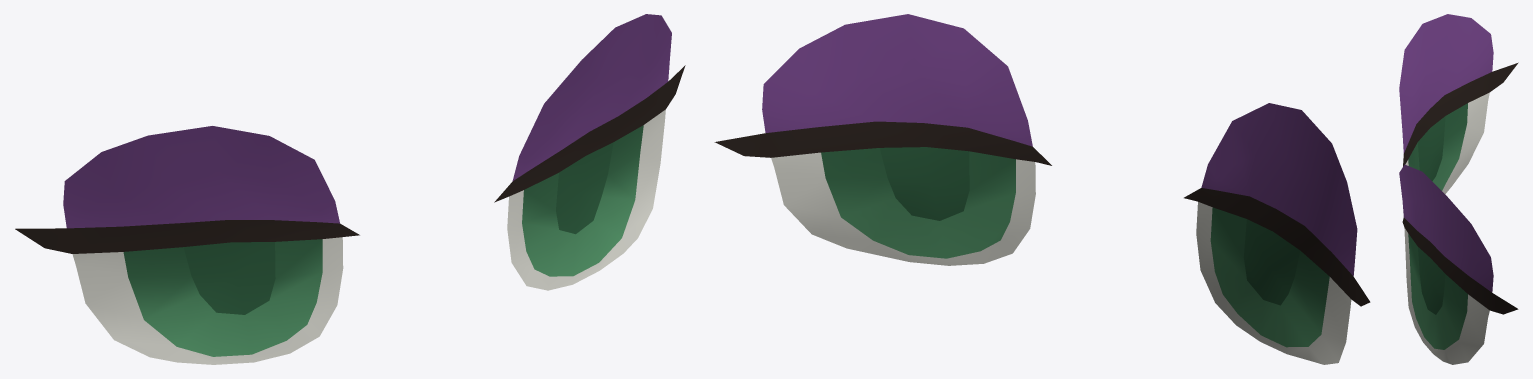
Rendered from Eye_Green_7.fbx.
The picture shows the model from 3 angles, left to right: view 1: azimuth 30°, elevation 25°; view 2: azimuth 150°, elevation 25°; view 3: azimuth 270°, elevation 25°; orthographic projection. The views are drawn at different scales.
Visible parts, largest first — view 1: Eye_Green_7; view 2: Eye_Green_7; view 3: Eye_Green_7.
Boxes of the visible parts, bbox=[...] form: Eye_Green_7: bbox=[15, 14, 685, 364]; Eye_Green_7: bbox=[714, 14, 1370, 364]; Eye_Green_7: bbox=[1399, 14, 1518, 364].
Bounding box in the file's own units: 41.23 × 14.51 × 8.45.
